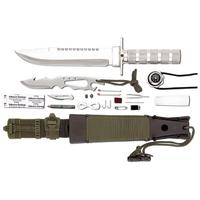knife: (3, 110, 196, 146), (10, 35, 186, 71), (11, 73, 145, 92), (45, 92, 77, 102)
